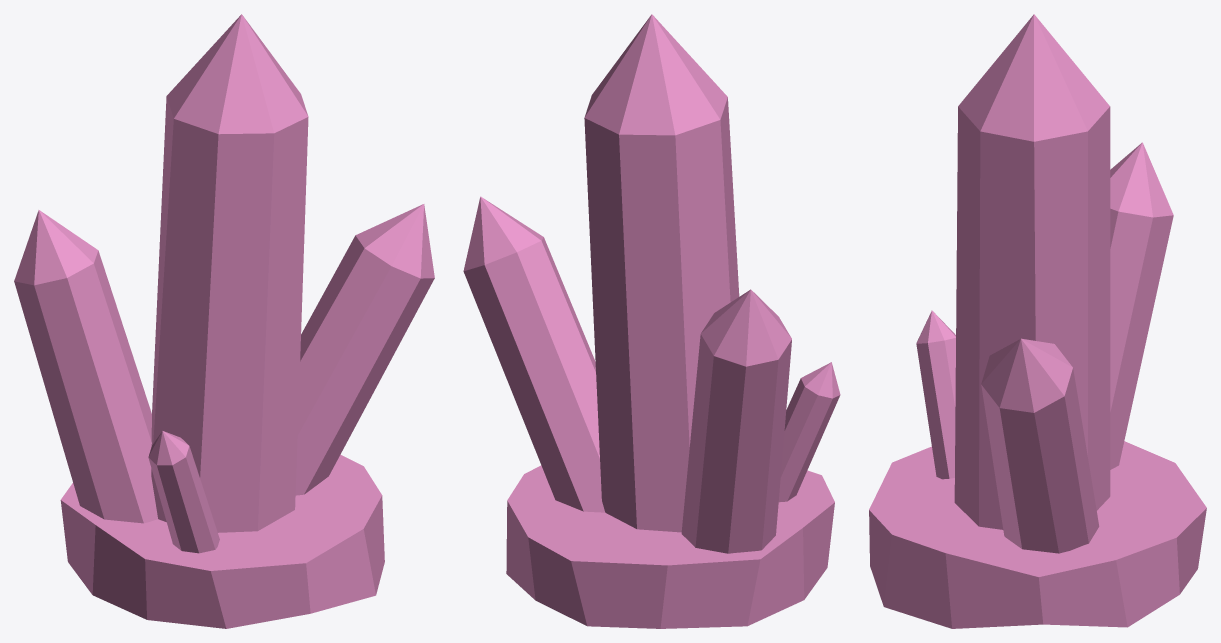
The model's file is gem.glb.
3 renders of one model, left to right at view 1: azimuth 30°, elevation 25°; view 2: azimuth 150°, elevation 25°; view 3: azimuth 270°, elevation 25°, orthographic. The views are drawn at different scales.
Parts seen in each view (by area): view 1: Cylinder.003; view 2: Cylinder.003; view 3: Cylinder.003.
Part boxes in pixels (x1,y1,x2,y2): Cylinder.003: (14,14,434,628); Cylinder.003: (463,14,840,628); Cylinder.003: (869,14,1206,628).
Size of the model in its own units: 5.66 by 8.18 by 4.44.
